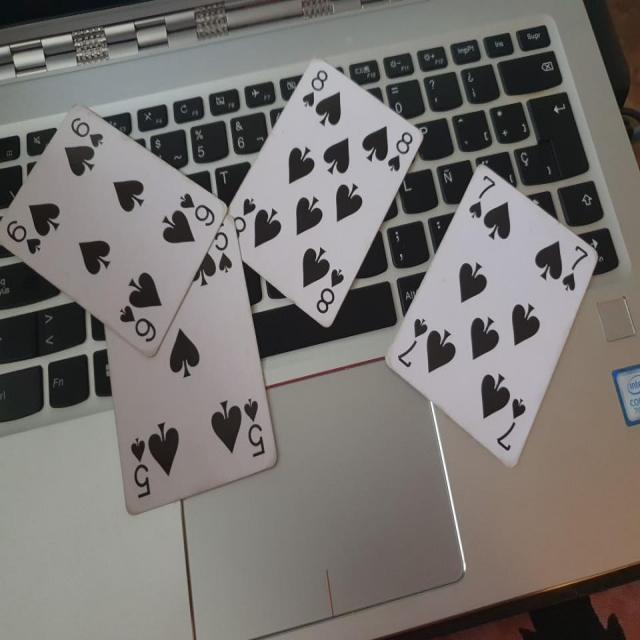5 Spades: (103, 221, 283, 511)
6 Spades: (1, 106, 230, 361)
7 Spades: (379, 162, 606, 476)
8 Spades: (217, 55, 425, 333)
